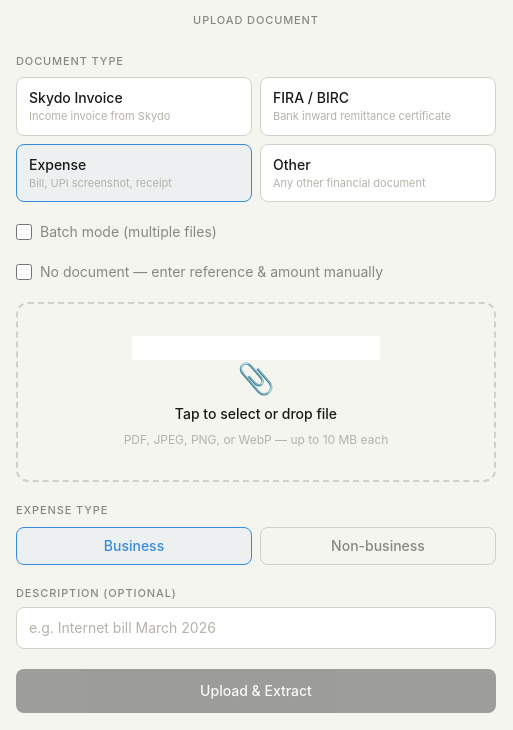
Scenario: Upload page › shows editable review form after extraction
Click the text "Tap to select or drop file".
click(256, 414)  # box [175,405,337,422]
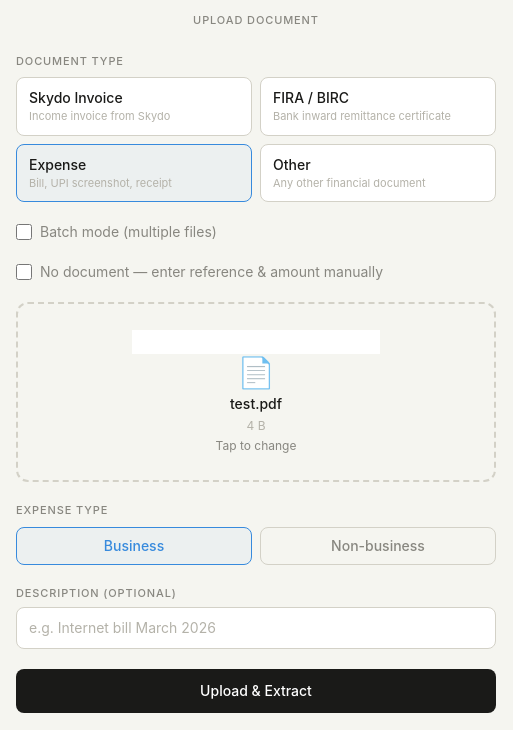
Click the button "Upload & Extract".
click(256, 691)  # box [16,669,496,713]
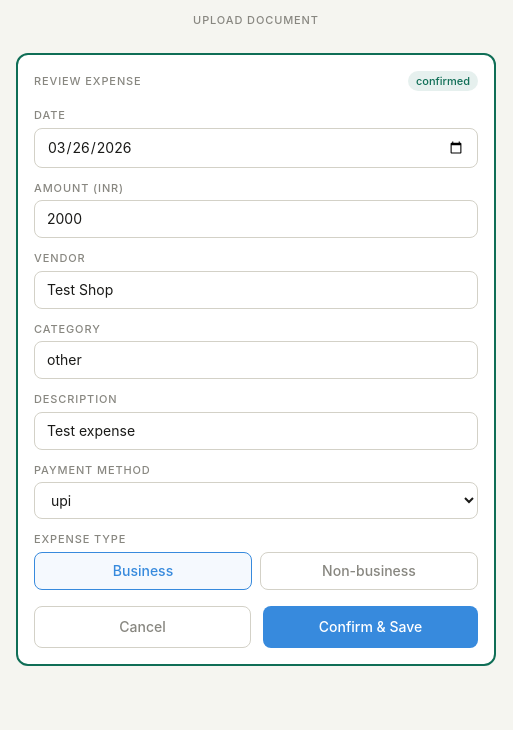
Expected: the button "Confirm & Save" is shown, [263,606,478,648]
Expected: the button "Cancel" is shown, [34,606,251,648]
Expected: the date field showing "2026-03-26" is shown, [34,128,478,168]
